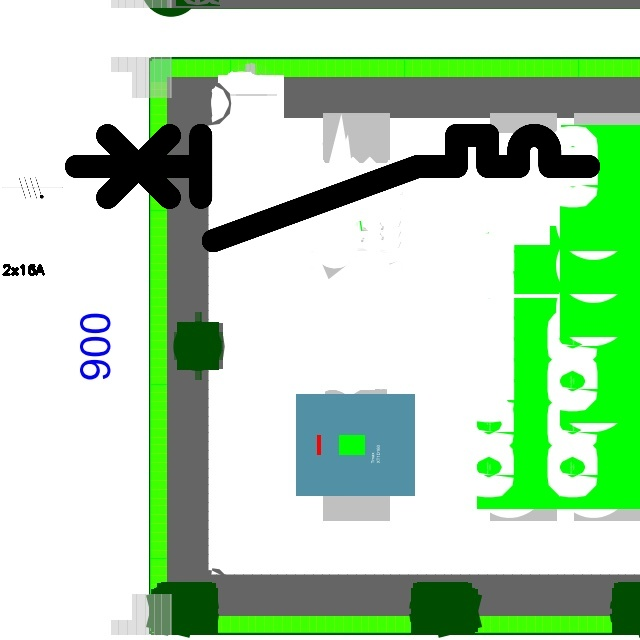interruptor_termomagnetico: (62, 122, 601, 254)
